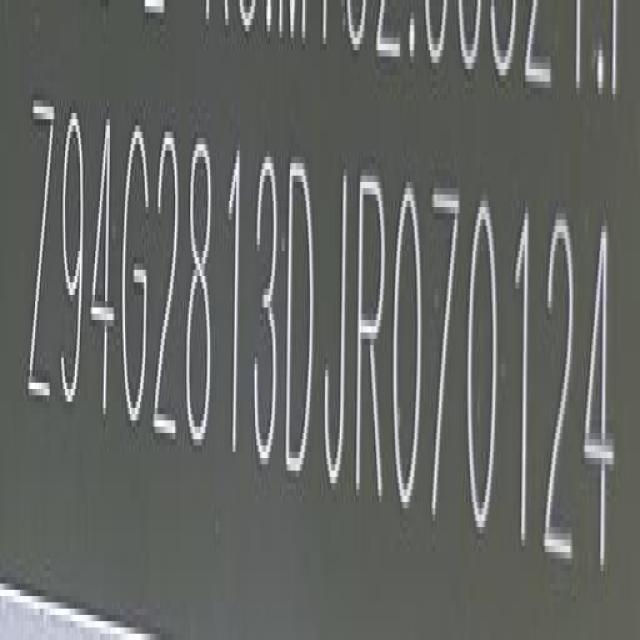0: (467, 186, 499, 544), (393, 179, 422, 514)
1: (509, 212, 532, 546), (225, 130, 243, 465)
2: (543, 198, 576, 560), (150, 128, 181, 448)
3: (250, 140, 278, 460)
4: (583, 225, 617, 567), (90, 107, 116, 425)
7: (430, 174, 461, 539)
8: (184, 130, 214, 456)
9: (59, 102, 85, 412)
D: (284, 137, 316, 479)
G: (121, 114, 150, 423)
J: (324, 160, 349, 479)
R: (354, 172, 386, 511)
Z: (27, 93, 54, 421)
